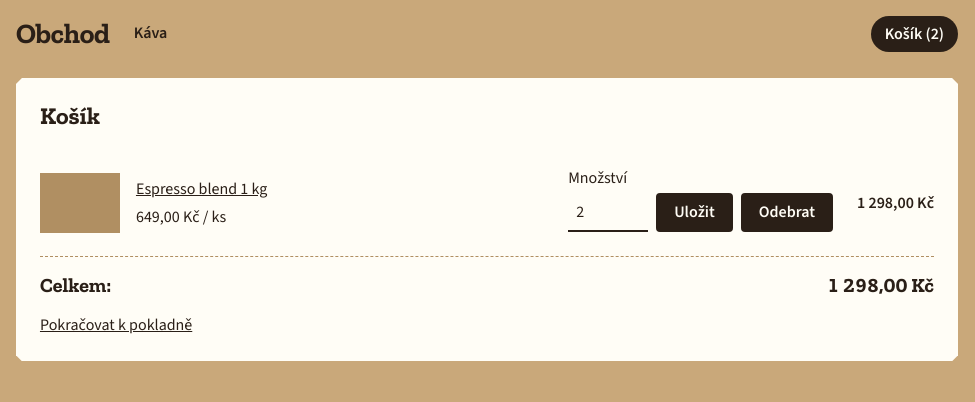
Test: rejects an invalid quantity
This screenshot has width=975, height=402.
Replace the text in the number field labelled "Množství" with "11" at (608, 213), box [568,194,648,232]
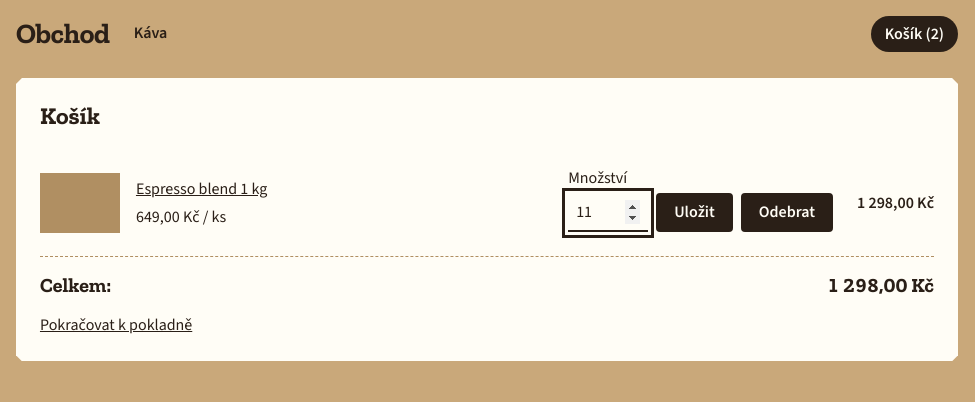
Click the button "Uložit".
click(694, 213)  # box [656,193,733,232]
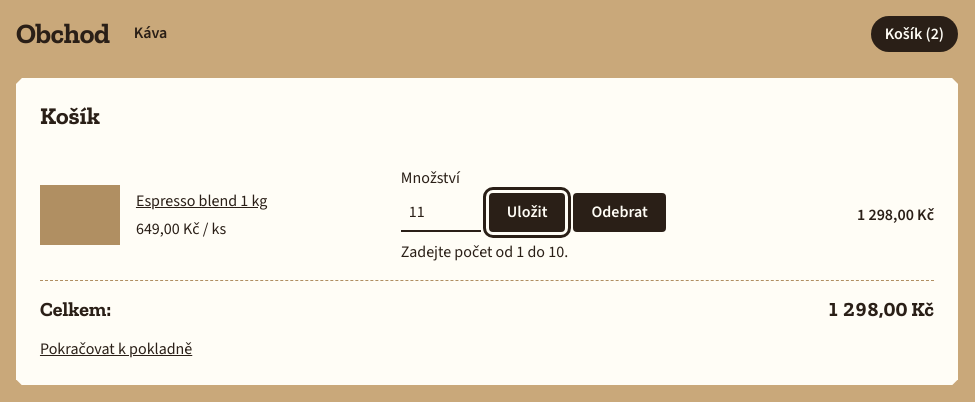
expect the link "Košík (2)" is shown: met, box [871,16,958,52]
expect the text "Zadejte počet od 1 do 10." is shown: met, box [401,241,568,263]
